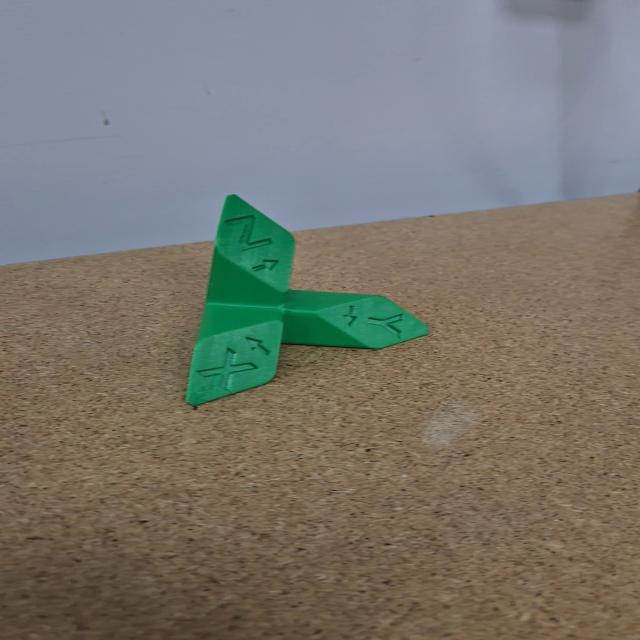objects: (175, 188, 442, 406)
